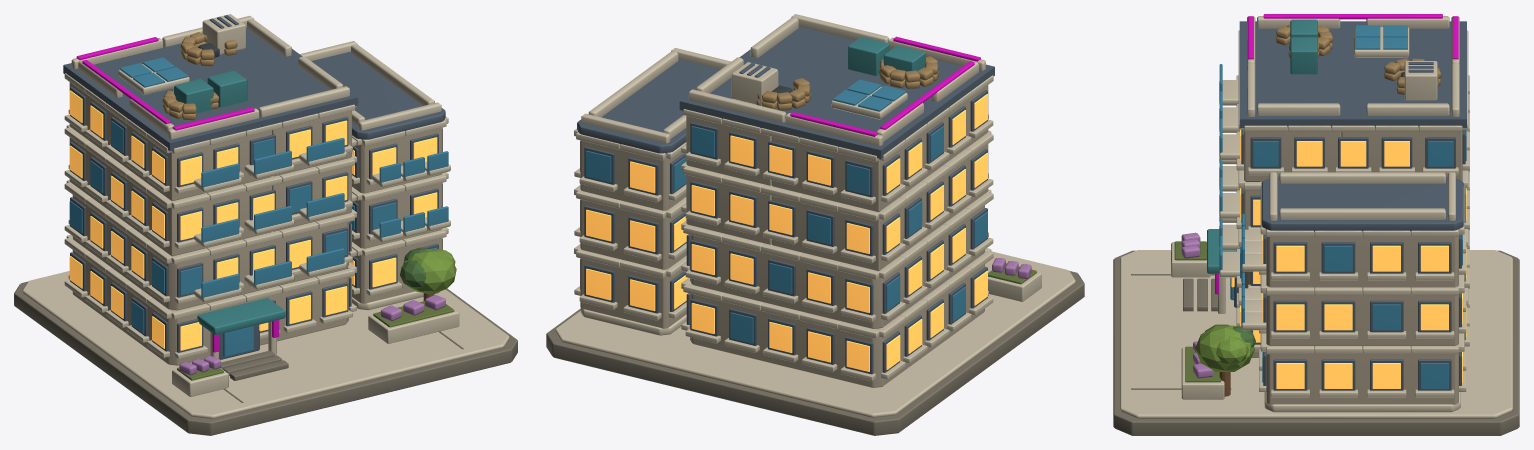
The model's file is civilian-apartments-garrison.glb.
The picture shows the model from 3 angles, left to right: view 1: azimuth 30°, elevation 25°; view 2: azimuth 150°, elevation 25°; view 3: azimuth 270°, elevation 25°; orthographic projection. The views are drawn at different scales.
Parts seen in each view (by area): view 1: CivilianShell; view 2: CivilianShell; view 3: CivilianShell.
Boxes of the visible parts, x1=… form: CivilianShell: x1=14, y1=14, x2=517, y2=435; CivilianShell: x1=546, y1=14, x2=1084, y2=435; CivilianShell: x1=1113, y1=14, x2=1519, y2=435.
Size of the model in its own units: 2.97 by 2.33 by 2.97.
